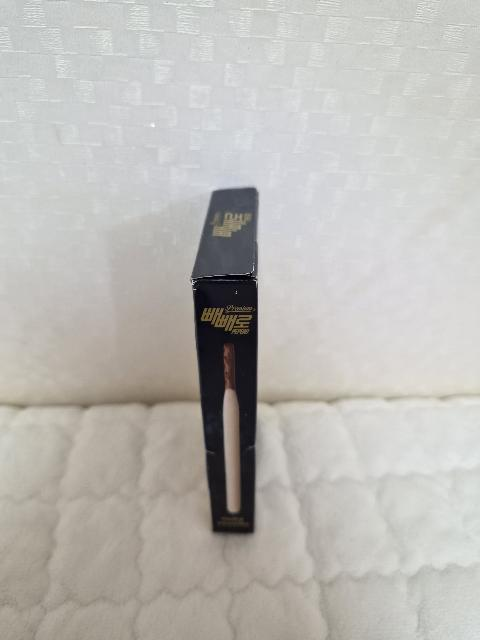pepero: (190, 188, 259, 533)
